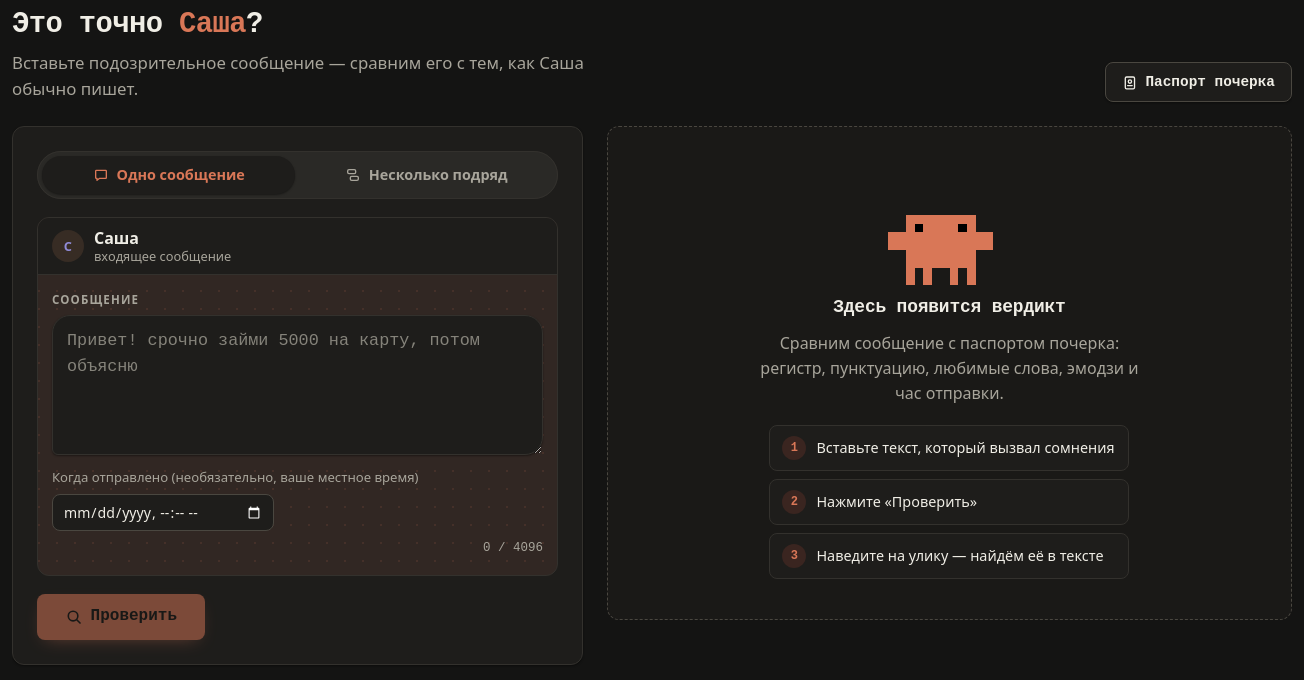
Test: объяснение без улик — подпись не ссылается на «улики выше»
Type "бублик опять на клаве уснул)" into the text box labelled "Сообщение". click: (297, 385)
box: top-left (52, 315), bottom-right (543, 455)
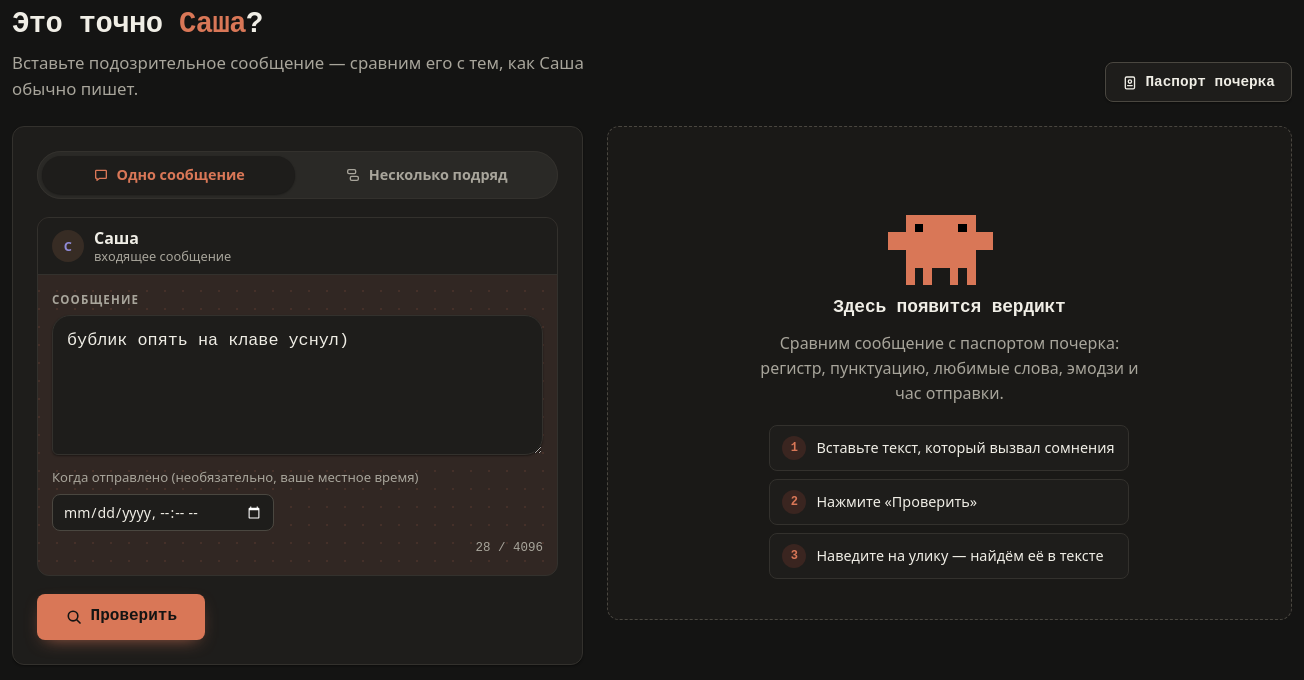
Click the button "Проверить". click: click(121, 617)
box: top-left (37, 594), bottom-right (205, 640)
(page scrolled)
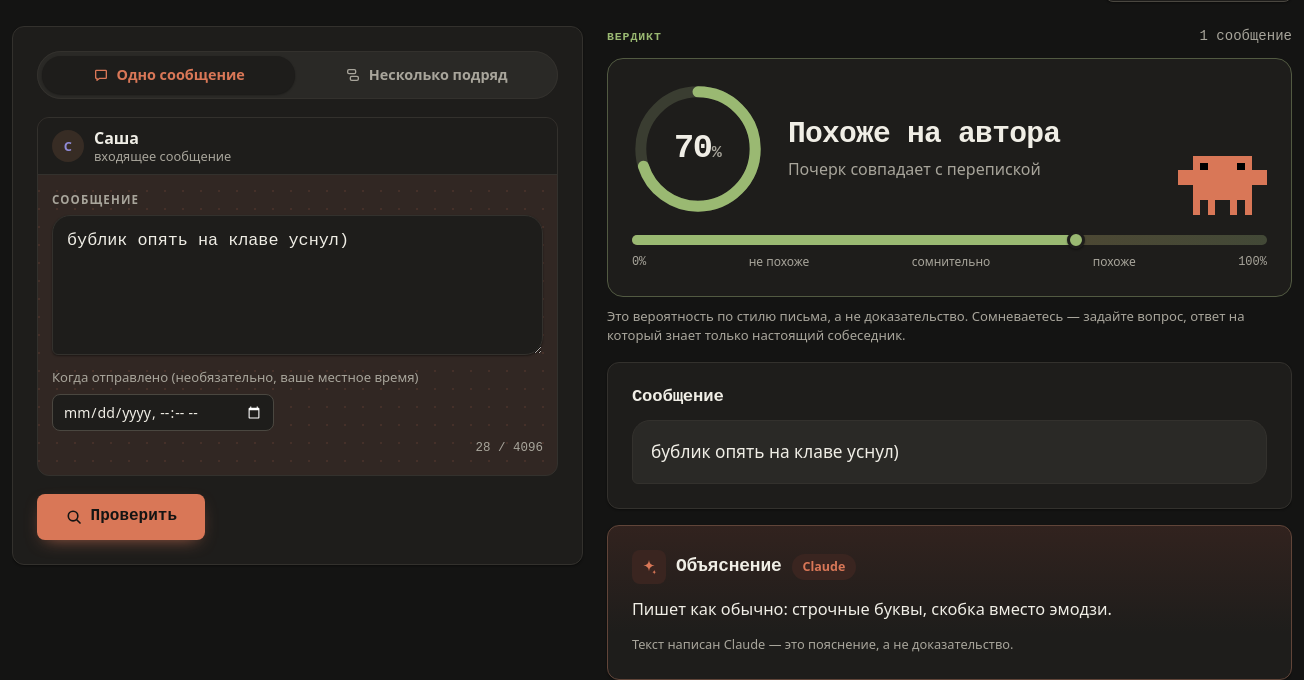
expect the text "Пишет как обычно: строчные буквы, скобка вместо эмодзи." is shown: met, box top-left (632, 598), bottom-right (1112, 620)
expect the text "Текст написан Claude — это пояснение, а не доказательство." is shown: met, box top-left (632, 635), bottom-right (1014, 653)
